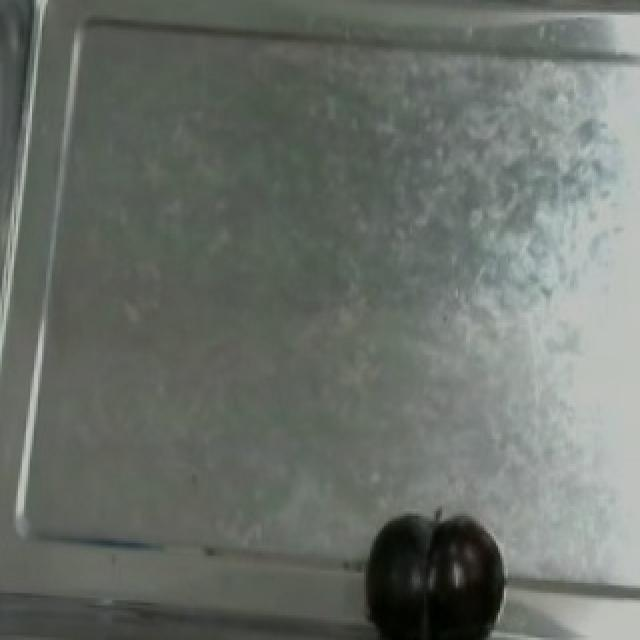Fruit: (352, 503, 512, 640)
